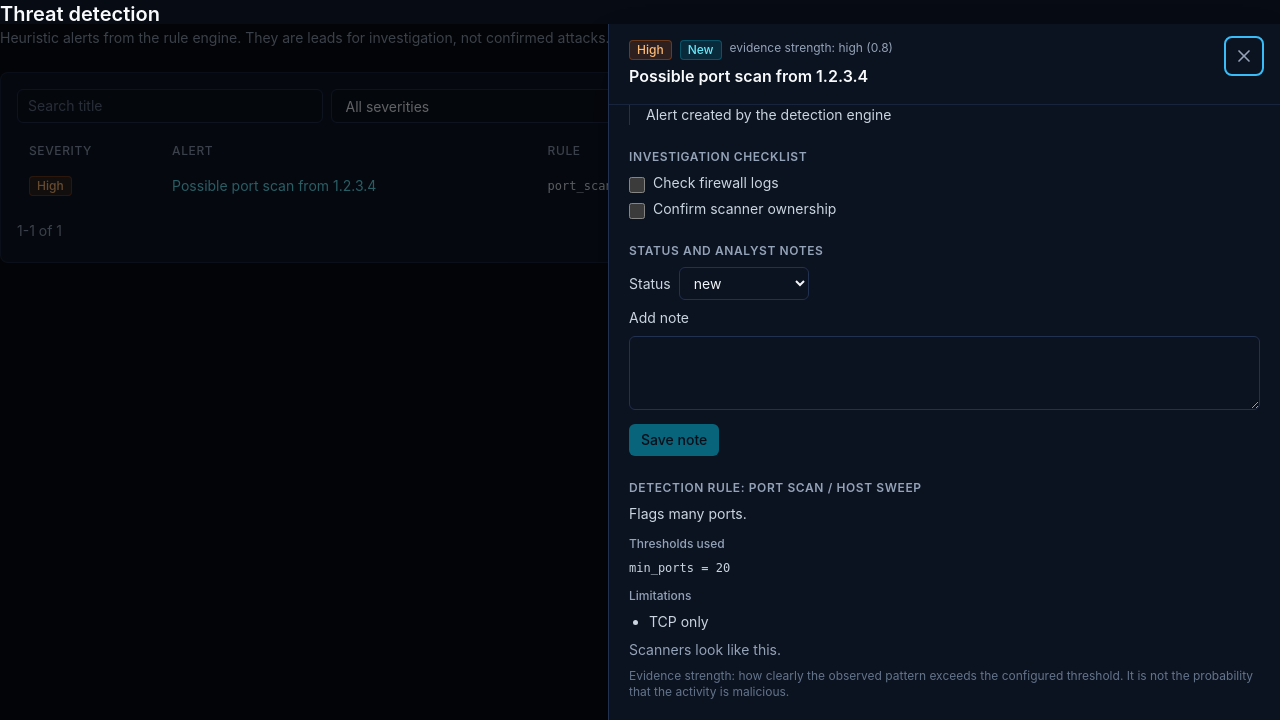
drawer surfaces save errors
This screenshot has width=1280, height=720.
(page scrolled)
Step 1. Type "x" into the text box labelled "Add note" → (944, 373), box [629, 336, 1260, 410]
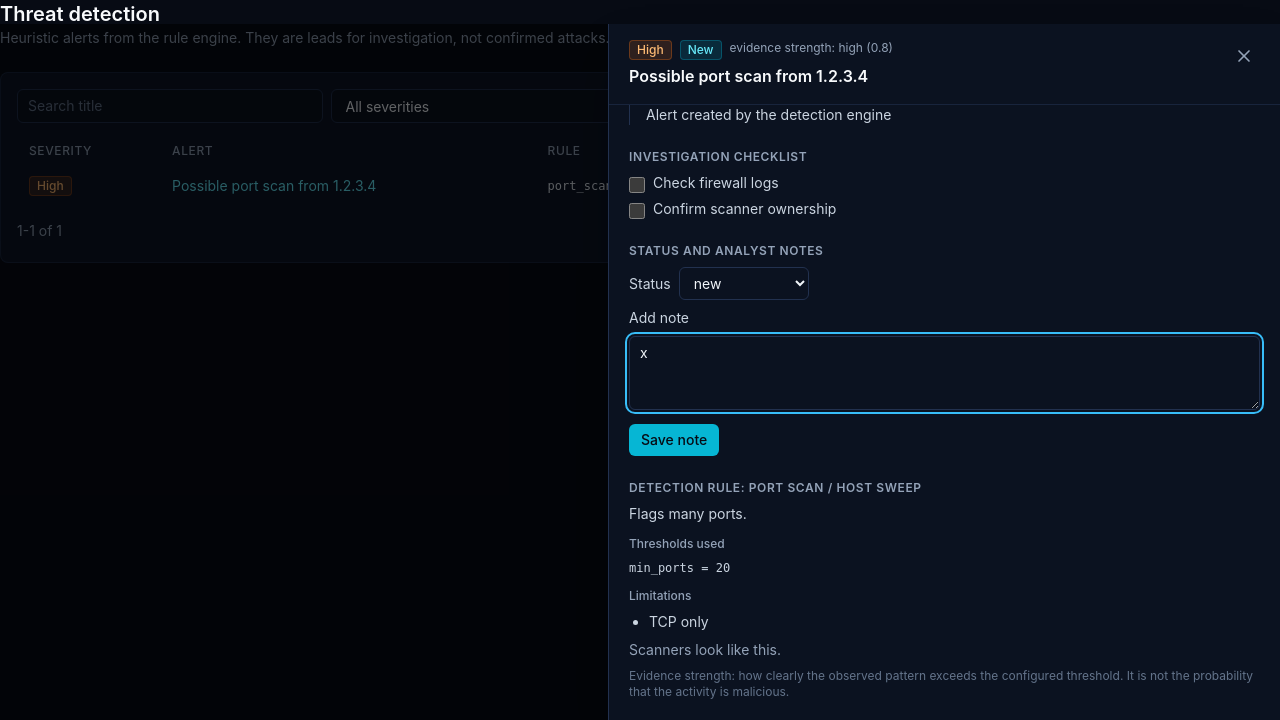
Step 2. Click the button "Save note" → (674, 440), box [629, 424, 719, 456]
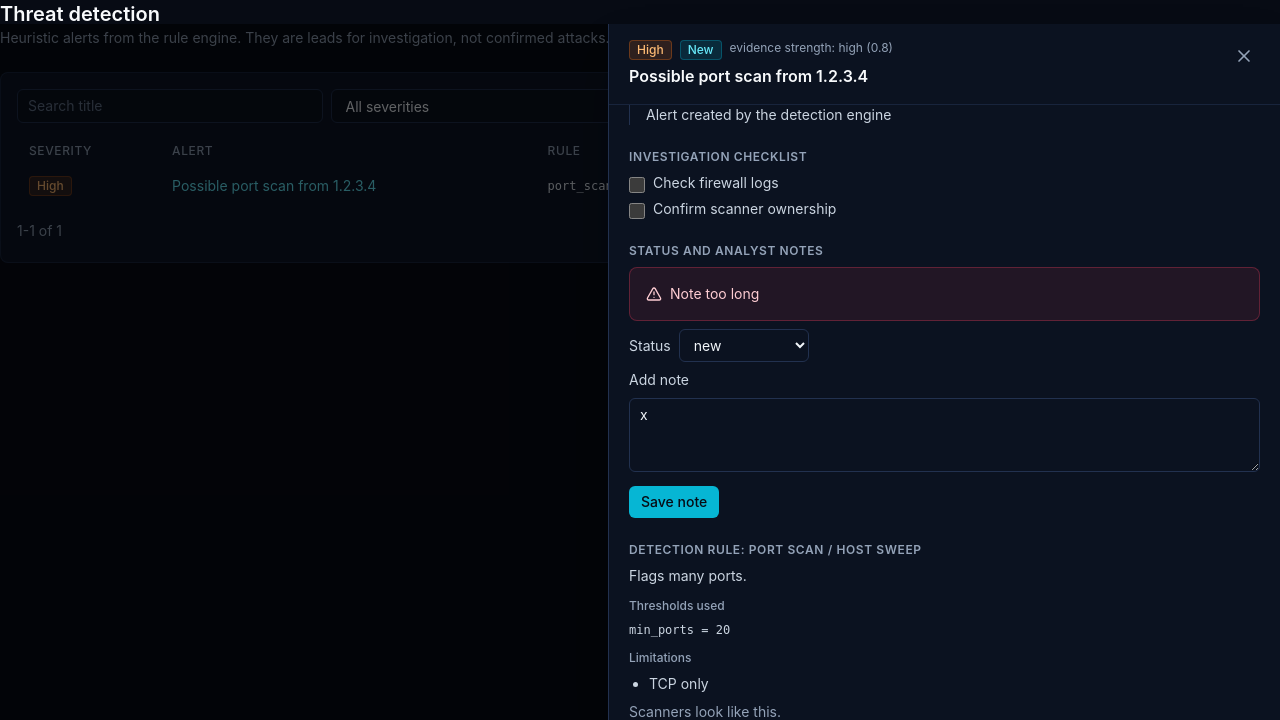
Expected: the text "Note too long" is shown, [646, 284, 759, 304]
